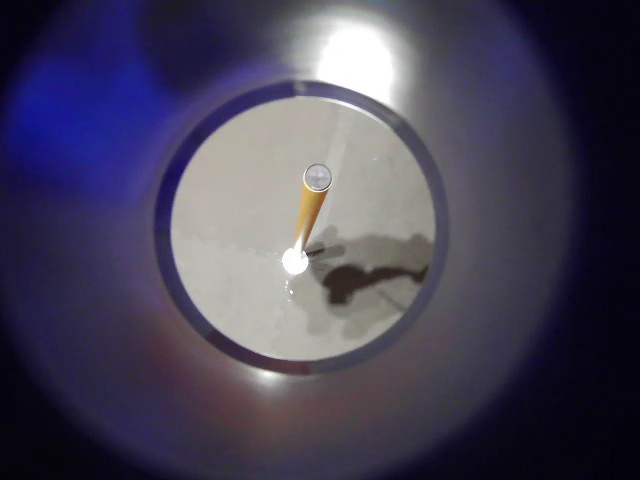tip: (294, 152, 342, 221)
